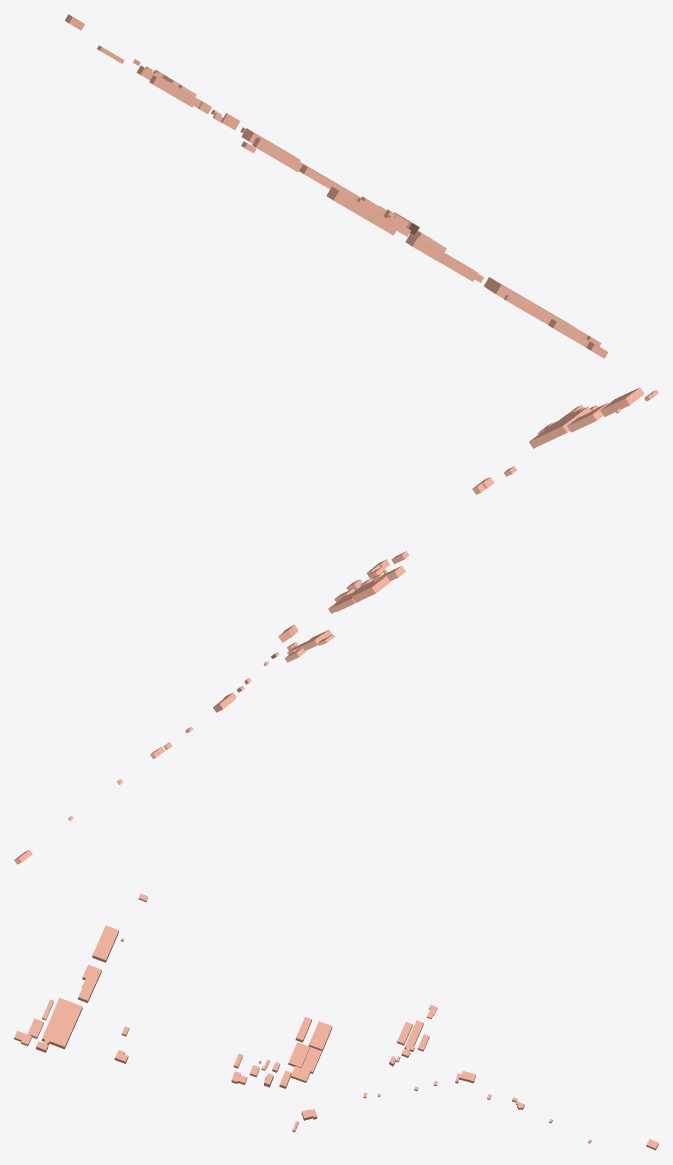
3 renders of one model, top to bottom at view 1: azimuth 30°, elevation 25°; view 2: azimuth 150°, elevation 25°; view 3: azimuth 270°, elevation 25°, orthographic. The views are drawn at different scales.
Size of the model in its own units: 280 by 260 by 880.
